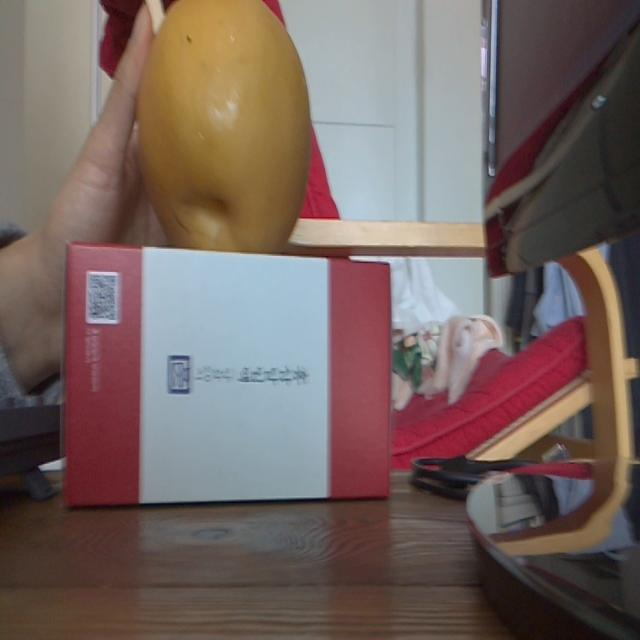pear: (134, 0, 314, 245)
